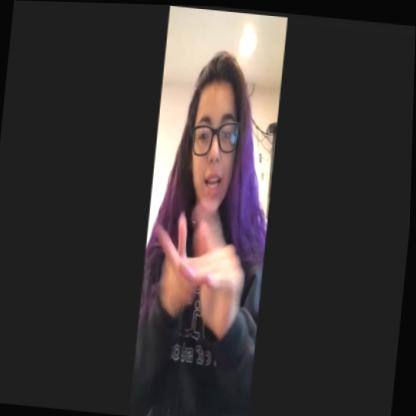NiceToMeetYou: (146, 200, 246, 331)
